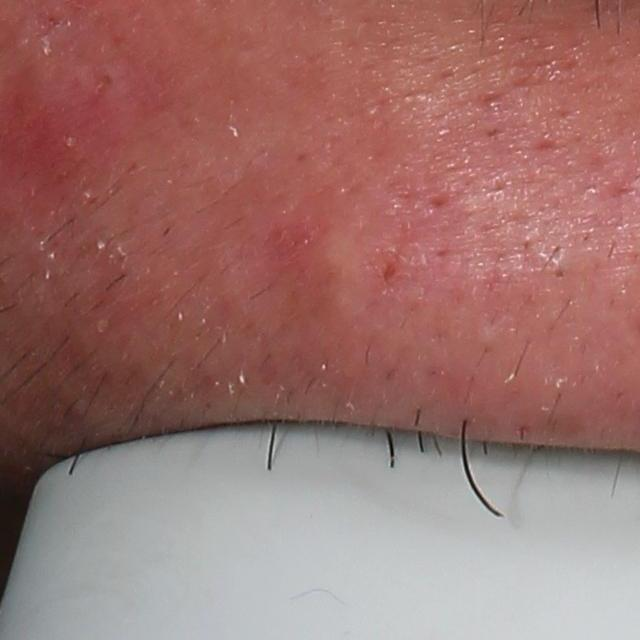comedo: (298, 235, 359, 319), (545, 261, 571, 283)
